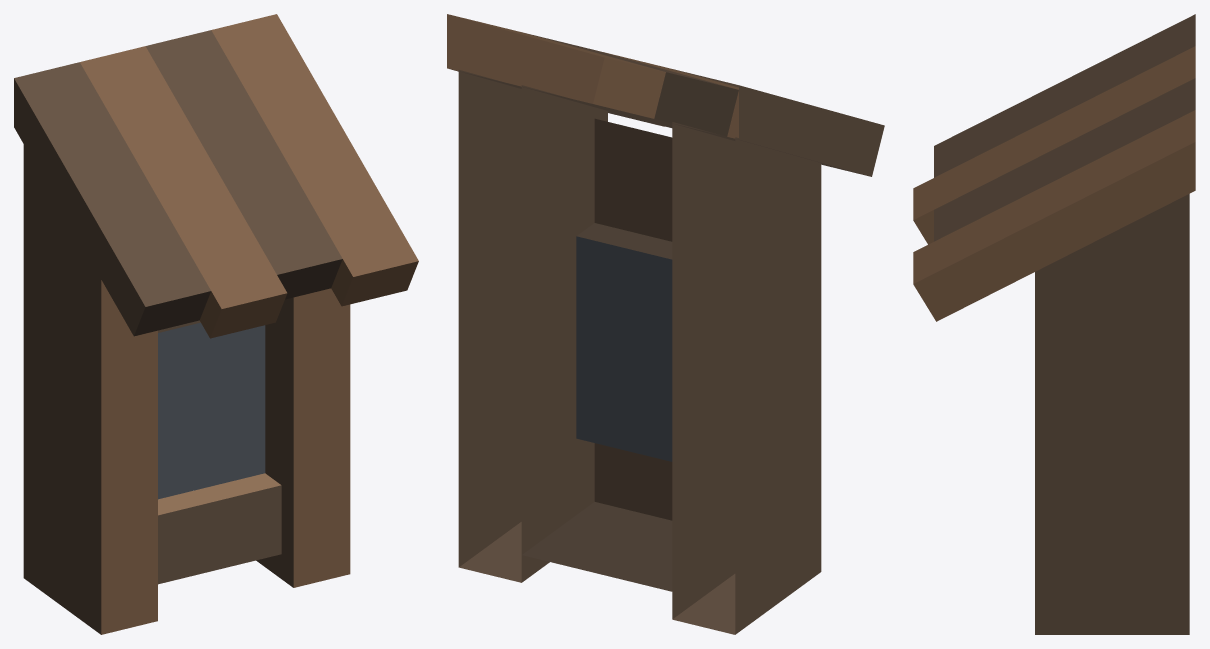
The model's file is TB_D_Bd_Window_Roof_A.FBX.
The picture shows the model from 3 angles, left to right: view 1: azimuth 30°, elevation 25°; view 2: azimuth 150°, elevation 25°; view 3: azimuth 270°, elevation 25°; orthographic projection. The views are drawn at different scales.
Visible parts, largest first — view 1: TB_D_Bd_Window_Roof_A; view 2: TB_D_Bd_Window_Roof_A; view 3: TB_D_Bd_Window_Roof_A.
Boxes of the visible parts, bbox=[...] form: TB_D_Bd_Window_Roof_A: bbox=[14, 14, 418, 634]; TB_D_Bd_Window_Roof_A: bbox=[447, 14, 884, 634]; TB_D_Bd_Window_Roof_A: bbox=[913, 14, 1195, 634].
Bounding box in the file's own units: 1.01 × 1.84 × 0.9483.
